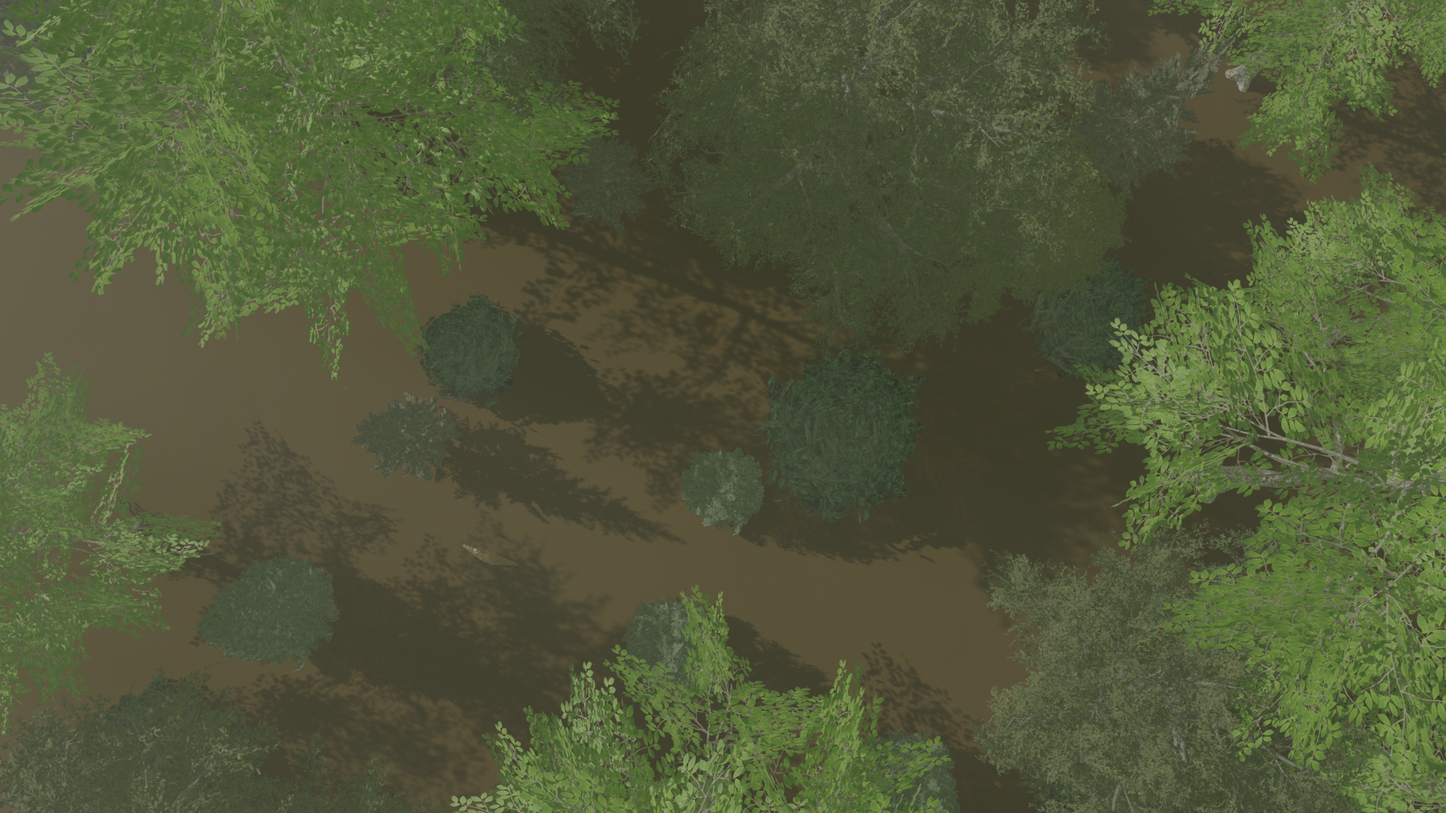pangolin: (445, 539, 523, 571), (0, 0, 15, 68), (139, 81, 184, 95), (121, 138, 136, 157)
